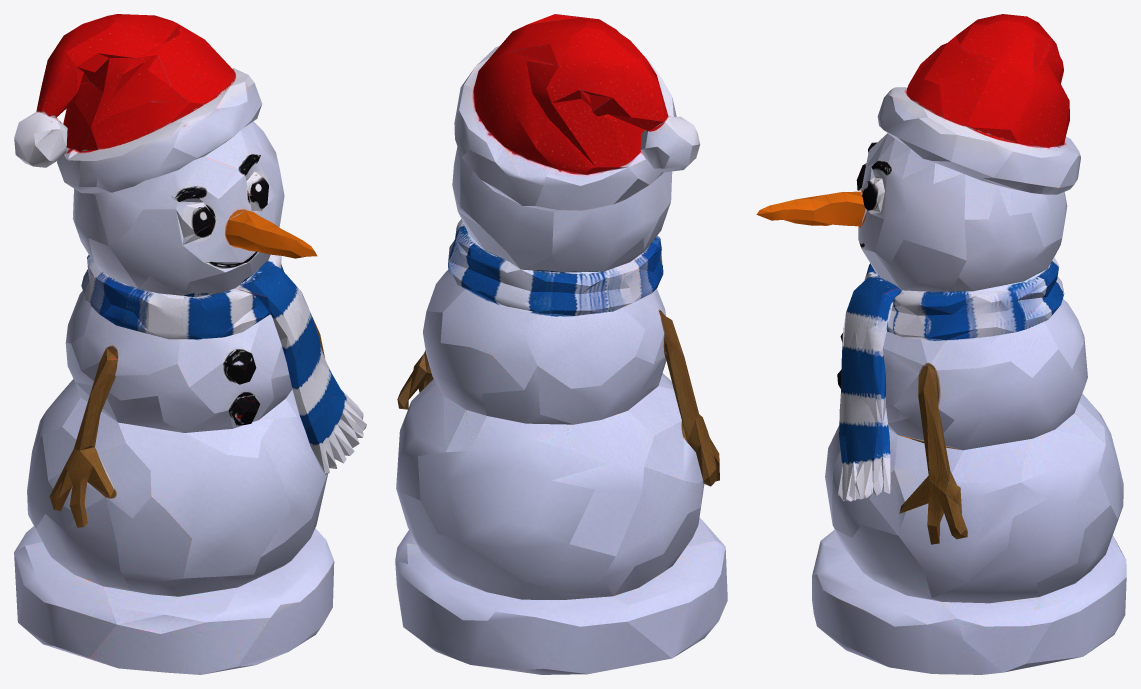
Rendered from snowman4.glb.
The picture shows the model from 3 angles, left to right: view 1: azimuth 30°, elevation 25°; view 2: azimuth 150°, elevation 25°; view 3: azimuth 270°, elevation 25°; orthographic projection. The views are drawn at different scales.
Parts seen in each view (by area): view 1: output_unwrapped; view 2: output_unwrapped; view 3: output_unwrapped.
Part boxes in pixels (<box>): output_unwrapped: <box>14,14,366,674</box>; output_unwrapped: <box>395,14,727,674</box>; output_unwrapped: <box>756,14,1126,674</box>.
Bounding box in the file's own units: 1.04 × 1.9 × 1.11.
1 material, 1 textured.
